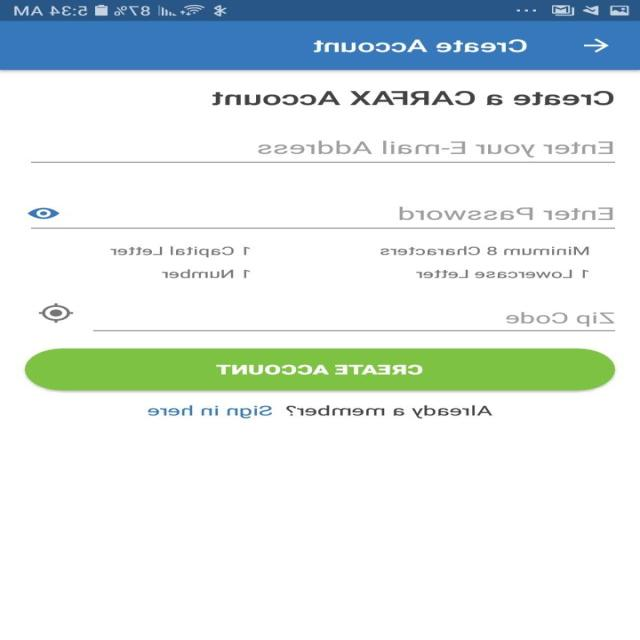EditText: (28, 206, 616, 229), (31, 140, 615, 163), (93, 312, 616, 332)
Icon: (39, 302, 75, 322), (28, 207, 61, 219), (584, 38, 610, 53)
Text: (212, 90, 614, 106), (258, 140, 612, 158), (286, 404, 494, 419), (314, 39, 528, 53), (399, 207, 613, 220), (380, 246, 590, 256), (148, 404, 274, 419), (110, 245, 250, 258), (416, 269, 590, 279), (506, 312, 614, 326), (162, 268, 250, 278)
TextButton: (25, 348, 616, 390)
